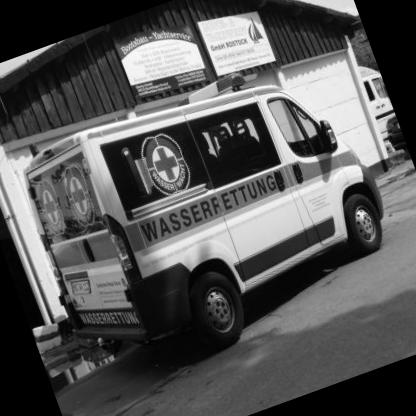ambulance: (1, 27, 416, 397)
